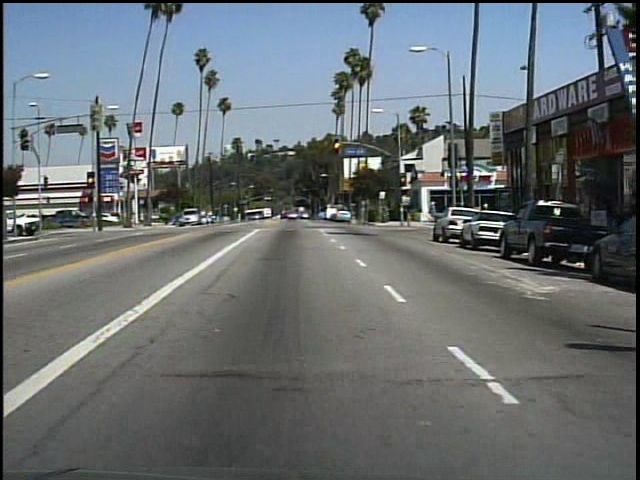person: (421, 196, 442, 224)
